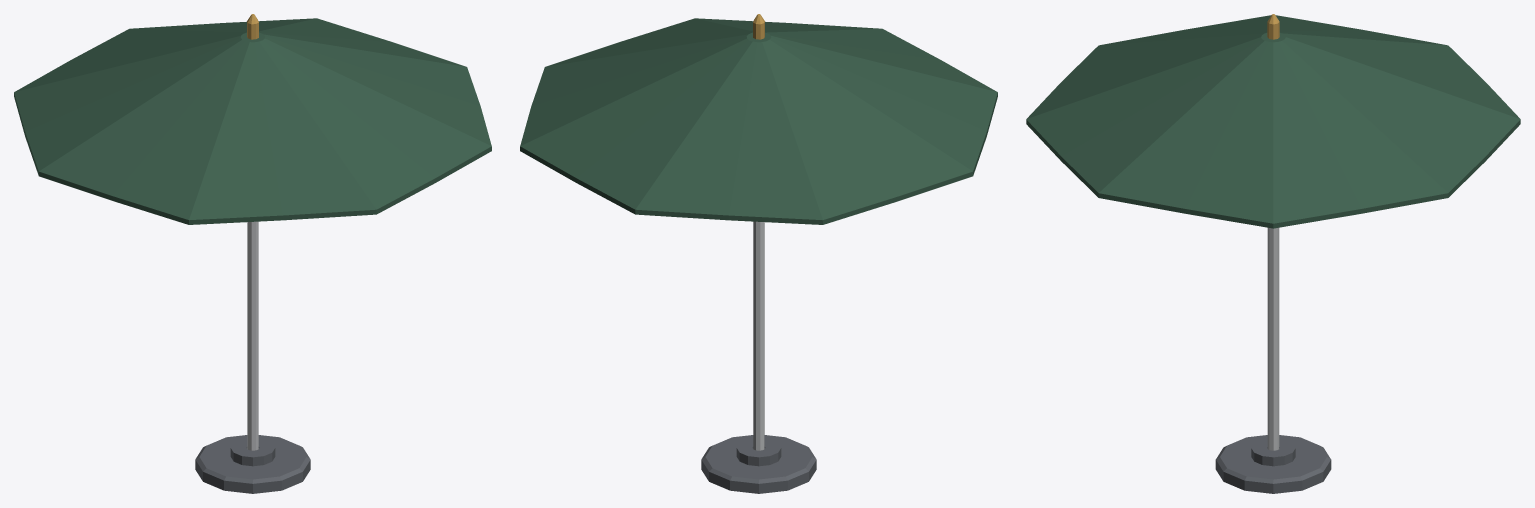
The model's file is FN_Parasol_Garden.obj.
The picture shows the model from 3 angles, left to right: view 1: azimuth 30°, elevation 25°; view 2: azimuth 150°, elevation 25°; view 3: azimuth 270°, elevation 25°; orthographic projection.
Parts seen in each view (by area): view 1: FN_Parasol_Garden; view 2: FN_Parasol_Garden; view 3: FN_Parasol_Garden.
Boxes of the visible parts, x1=… form: FN_Parasol_Garden: x1=14, y1=14, x2=491, y2=493; FN_Parasol_Garden: x1=520, y1=14, x2=997, y2=493; FN_Parasol_Garden: x1=1026, y1=14, x2=1520, y2=493.
Size of the model in its own units: 2.4 by 2.44 by 2.4.
Materials: 1 (1 with a texture image).
